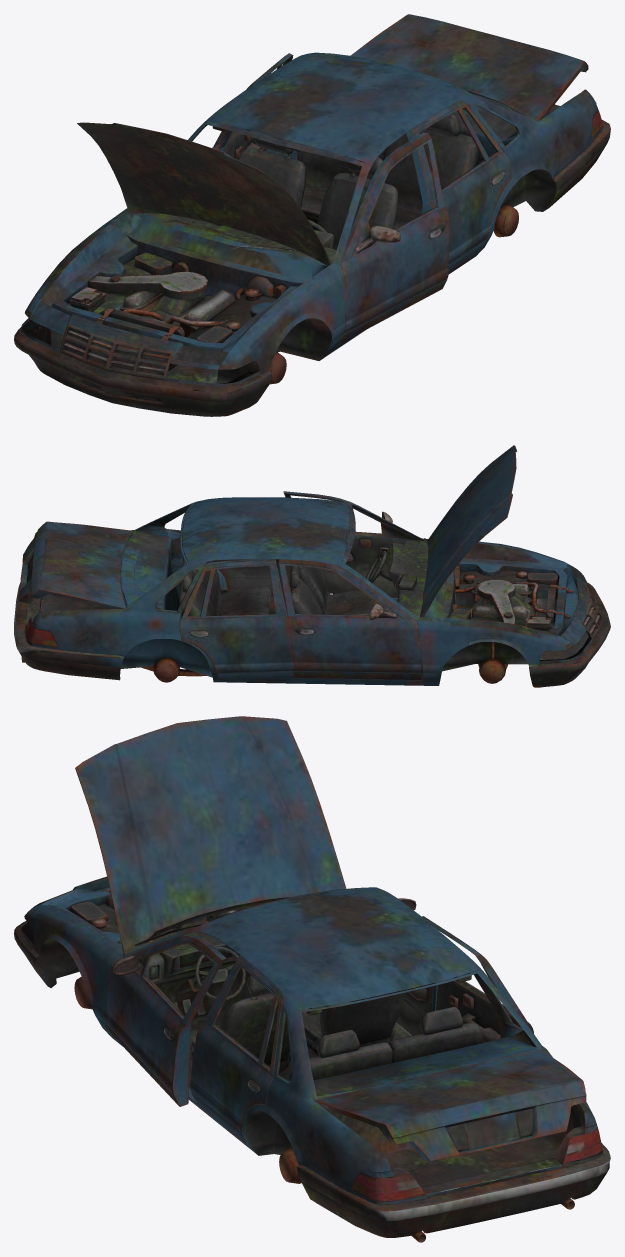
Rendered from abandoned_sedan.glb.
3 views of the same model, one above another, from view 1: azimuth 30°, elevation 25°; view 2: azimuth 150°, elevation 25°; view 3: azimuth 270°, elevation 25° (orthographic). The views are drawn at different scales.
Parts seen in each view (by area): view 1: Bottom_0, Hood_3, Trunkdoor_4, Door_FR_inner.001_13, Seats_9, Bumper_front_inner_12, Engine_6, Door_RR.001_14, Dashboard_7, Bumper_rear_1, SUSPENSION_5, Door_RR_11; view 2: Bottom_0, Door_FR_inner_10, Door_RR_11, Trunkdoor_4, Hood_3, Seats_9, Engine_6, Door_FR_inner.001_13, Bumper_rear_1, Dashboard_7, Bumper_front_inner_12, SUSPENSION_5 (+2 smaller); view 3: Bottom_0, Hood_3, Trunkdoor_4, Seats_9, Bumper_rear_1, Door_FR_inner.001_13, Door_RR.001_14, Door_RR_11, Dashboard_7, Stoplights_glass_2, Door_FR_inner_10, SUSPENSION_5 (+2 smaller).
Boxes of the visible parts, x1,y1,x2,y2 form: Bottom_0: [21, 52, 602, 386]; Hood_3: [77, 122, 332, 266]; Trunkdoor_4: [350, 14, 588, 121]; Door_FR_inner.001_13: [339, 132, 449, 343]; Seats_9: [238, 114, 479, 250]; Bumper_front_inner_12: [14, 320, 271, 416]; Engine_6: [69, 252, 286, 342]; Door_RR.001_14: [410, 101, 511, 270]; Dashboard_7: [144, 213, 336, 261]; Bumper_rear_1: [549, 104, 610, 207]; SUSPENSION_5: [168, 203, 518, 384]; Door_RR_11: [224, 53, 293, 159]; Bottom_0: [25, 497, 603, 685]; Door_FR_inner_10: [278, 559, 422, 679]; Door_RR_11: [179, 559, 293, 680]; Trunkdoor_4: [18, 521, 132, 608]; Hood_3: [420, 445, 516, 617]; Seats_9: [179, 557, 374, 616]; Engine_6: [449, 566, 557, 631]; Door_FR_inner.001_13: [283, 491, 423, 597]; Bumper_rear_1: [14, 583, 124, 680]; Dashboard_7: [380, 540, 428, 616]; Bumper_front_inner_12: [528, 582, 610, 687]; SUSPENSION_5: [21, 598, 508, 683]; Bottom_0: [20, 876, 602, 1233]; Hood_3: [75, 716, 346, 954]; Trunkdoor_4: [314, 1050, 586, 1161]; Seats_9: [190, 975, 483, 1080]; Bumper_rear_1: [296, 1143, 610, 1237]; Door_FR_inner.001_13: [106, 935, 226, 1106]; Door_RR.001_14: [190, 955, 285, 1142]; Door_RR_11: [421, 916, 533, 1042]; Dashboard_7: [129, 926, 262, 1015]; Stoplights_glass_2: [350, 1126, 602, 1201]; Door_FR_inner_10: [396, 898, 433, 1035]; SUSPENSION_5: [74, 976, 574, 1242].
Size of the model in its own units: 4.67 by 1.63 by 3.41.
Materials: 2 (2 with a texture image).
